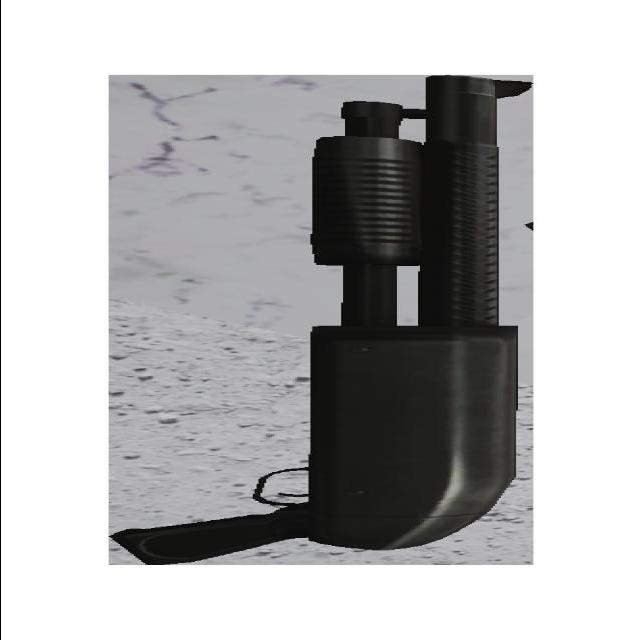shotgun: (82, 77, 545, 572)
